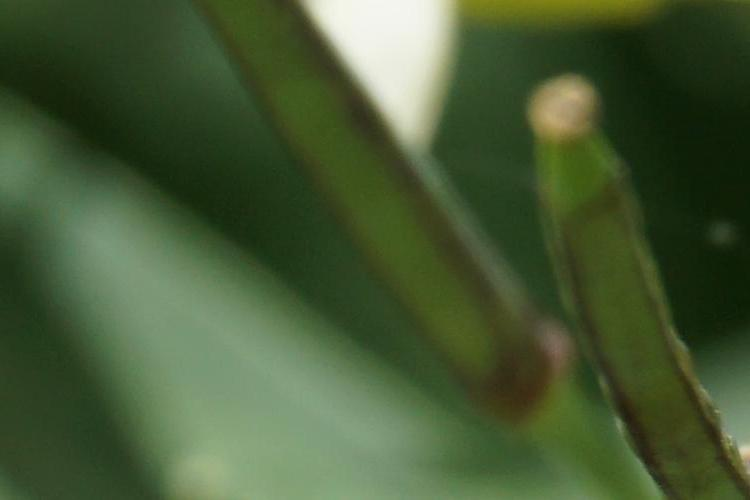pod: (546, 72, 697, 441)
